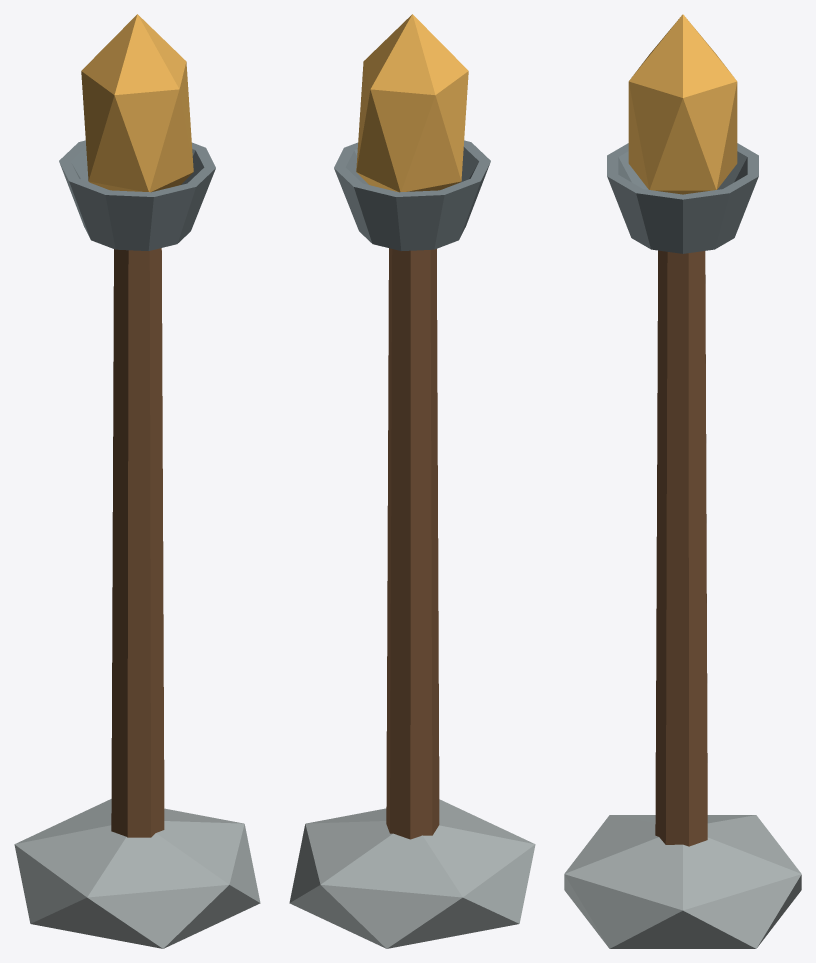
Rendered from CC_Torch.fbx.
3 views of the same model, side by side, from view 1: azimuth 30°, elevation 25°; view 2: azimuth 150°, elevation 25°; view 3: azimuth 270°, elevation 25° (orthographic).
Visible parts, largest first — view 1: Torch stick, Torch base, Flame, Torch cup; view 2: Torch stick, Torch base, Flame, Torch cup; view 3: Torch stick, Torch base, Flame, Torch cup.
Boxes of the visible parts, x1,y1,x2,y2 form: Torch stick: (111, 248, 164, 837); Torch base: (14, 799, 260, 948); Flame: (81, 14, 193, 192); Torch cup: (59, 140, 215, 250); Torch stick: (386, 248, 439, 839); Torch base: (289, 799, 535, 948); Flame: (356, 14, 468, 192); Torch cup: (334, 140, 490, 250); Torch stick: (655, 250, 707, 846); Torch base: (564, 815, 801, 948); Flame: (628, 14, 737, 194); Torch cup: (607, 143, 758, 253).
Size of the model in its own units: 0.6261 by 2.55 by 0.5954.
